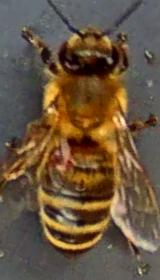varroa_mite: (44, 140, 72, 168)
